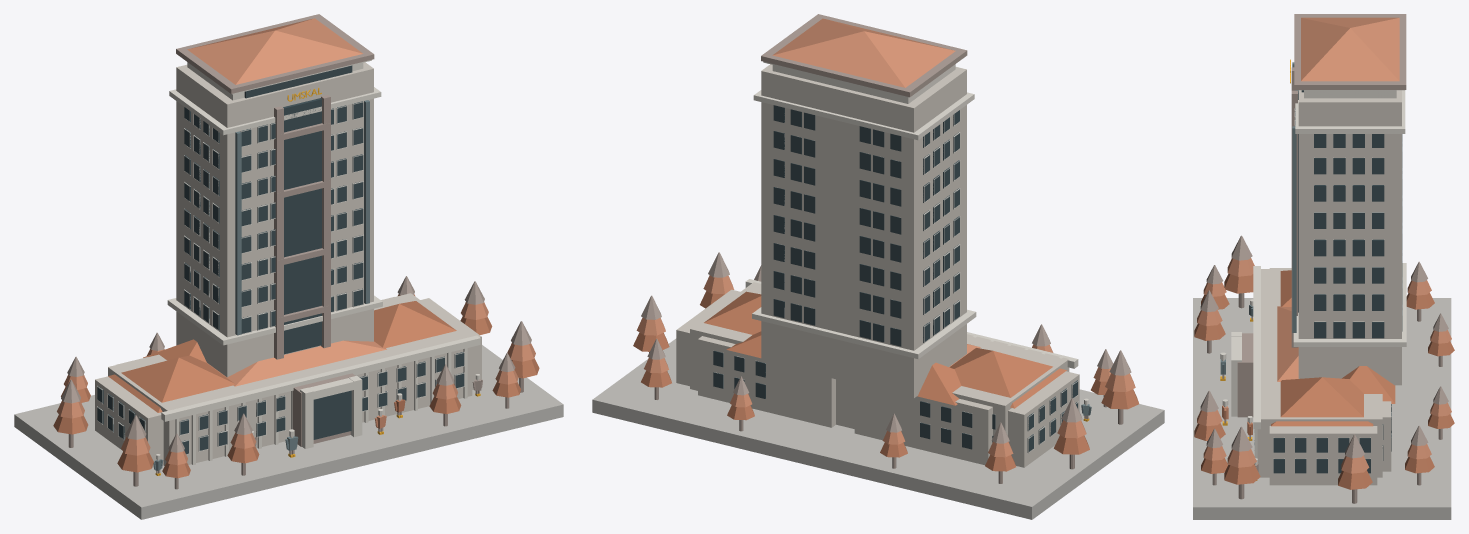
File: menara.gltf
3 views of the same model, side by side, from view 1: azimuth 30°, elevation 25°; view 2: azimuth 150°, elevation 25°; view 3: azimuth 270°, elevation 25° (orthographic). The views are drawn at different scales.
Parts seen in each view (by area): view 1: Tower_Main, Concrete_Platform, Lower_Central_Block, Tower_Central_Glass, Tower_Roof, Roof_Left, Lower_Front_Cornice, Tower_Roof_Base, Roof_Central, Lower_Left_Wing, Roof_Right, Tower_Vertical_Frame (+13 smaller); view 2: Tower_Main, Concrete_Platform, Tower_Roof, Rear_Right_Extension, Rear_Left_Extension, Lower_Central_Block, Roof_Left, Lower_Left_Wing, Tower_Roof_Base, Tower_Cornice, Tower_Cornice.001, Roof_Right (+3 smaller); view 3: Concrete_Platform, Tower_Main, Tower_Roof, Lower_Central_Block, Lower_Right_Wing, Roof_Right, Tower_Roof_Base, Tower_Cornice, Roof_Central, Lower_Front_Cornice, Entrance_Projection, Tower_Cornice.001 (+24 smaller).
Boxes of the visible parts, x1,y1,x2,y2 form: Tower_Main: (176, 62, 373, 377); Concrete_Platform: (14, 345, 563, 519); Lower_Central_Block: (108, 293, 472, 465); Tower_Central_Glass: (283, 98, 321, 354); Tower_Roof: (187, 18, 362, 84); Roof_Left: (108, 355, 234, 412); Lower_Front_Cornice: (161, 335, 480, 421); Tower_Roof_Base: (176, 14, 374, 93); Roof_Central: (207, 340, 386, 386); Lower_Left_Wing: (95, 376, 163, 467); Roof_Right: (374, 301, 456, 348); Tower_Vertical_Frame: (274, 106, 283, 359); Tower_Main: (761, 64, 966, 398); Concrete_Platform: (592, 338, 1164, 519); Tower_Roof: (772, 18, 955, 87); Rear_Right_Extension: (698, 336, 835, 427); Rear_Left_Extension: (854, 384, 992, 465); Lower_Central_Block: (690, 282, 1069, 435); Roof_Left: (949, 348, 1066, 408); Lower_Left_Wing: (1008, 371, 1079, 467); Tower_Roof_Base: (761, 14, 967, 97); Tower_Cornice: (752, 307, 976, 359); Tower_Cornice.001: (753, 90, 974, 140); Roof_Right: (704, 291, 761, 334); Concrete_Platform: (1193, 298, 1451, 519); Tower_Main: (1298, 90, 1401, 385); Tower_Roof: (1301, 17, 1399, 81); Lower_Central_Block: (1257, 269, 1382, 477); Lower_Right_Wing: (1269, 426, 1377, 485); Roof_Right: (1271, 377, 1373, 426); Tower_Roof_Base: (1294, 14, 1406, 89); Tower_Cornice: (1293, 263, 1406, 346); Roof_Central: (1277, 306, 1298, 381); Lower_Front_Cornice: (1253, 266, 1260, 429); Entrance_Projection: (1237, 333, 1253, 417); Tower_Cornice.001: (1295, 90, 1405, 133).
Bounding box in the file's own units: 47.32 × 39.7 × 24.32.
